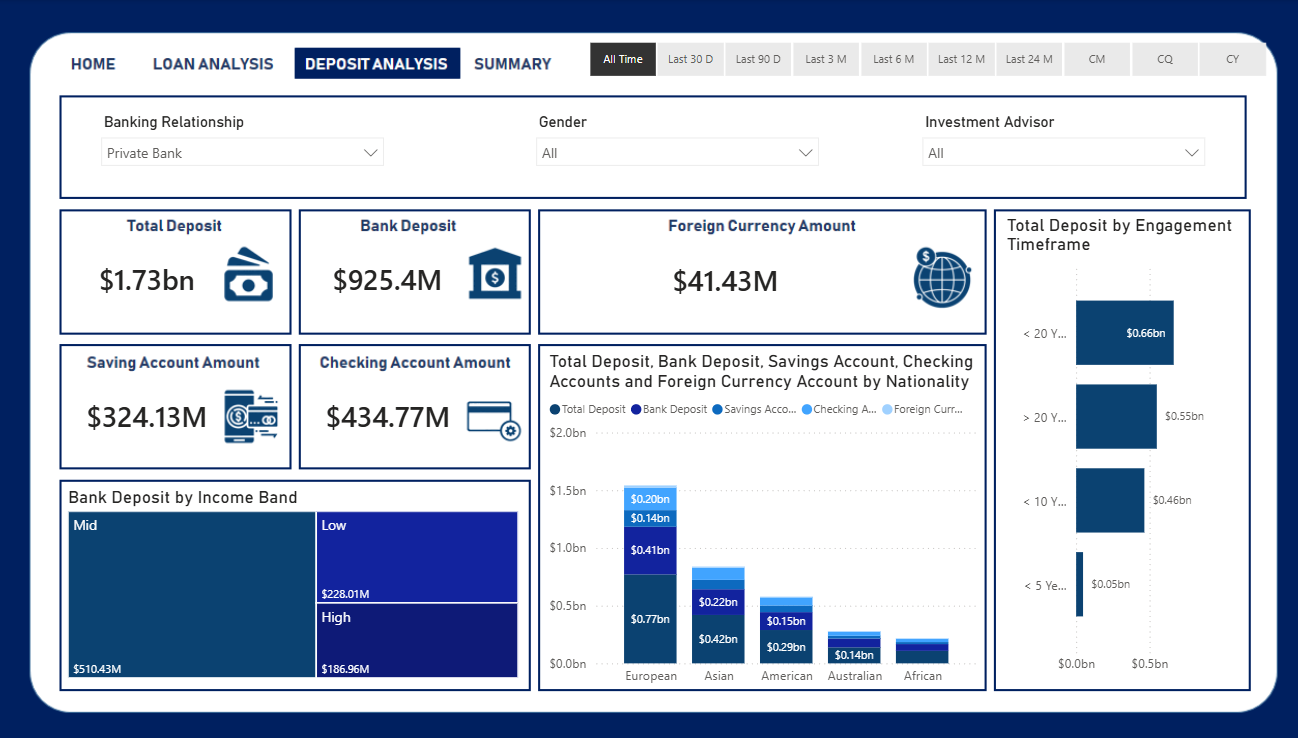

The page's visual inventory and layout, read from the dashboard file:
{"tool":"powerbi","page":{"name":"Deposit Analysis","canvas":[1280,720],"ordinal":2},"visuals":[{"type":"card","fields":{"Values":["DAX Measures.Total Deposit"]},"box":[72.7,226.3,161.8,90.3],"z":0},{"type":"card","fields":{"Values":["DAX Measures.Bank Deposit"]},"box":[299,226.3,172.4,89.1],"z":1000},{"type":"card","fields":{"Values":["DAX Measures.Savings Account"]},"box":[72.7,360,161.8,89.1],"z":2000},{"type":"card","fields":{"Values":["DAX Measures.Checking Accounts"]},"box":[300.2,360,171.2,89.1],"z":3000},{"type":"slicer","fields":{"Values":["Banking Relationship.Banking Relationship"]},"box":[98.5,105.2,292.9,75.7],"z":4000},{"type":"slicer","fields":{"Values":["Gender.Gender"]},"box":[518.9,105.2,292.9,75.7],"z":5000},{"type":"slicer","fields":{"Values":["Investment Advisor.Investment Advisor"]},"box":[891.3,105.2,292.9,75.7],"z":6000},{"type":"card","fields":{"Values":["DAX Measures.Foreign Currency Account"]},"box":[537.1,227.5,349.4,89.1],"z":7000},{"type":"treemap","fields":{"Group":["Clients - Banking.Income Band"],"Values":["DAX Measures.Bank Deposit"]},"box":[72.7,470.2,444.4,190],"z":8000},{"type":"columnChart","fields":{"Category":["Clients - Banking.Nationality"],"Y":["DAX Measures.Total Deposit","DAX Measures.Bank Deposit","DAX Measures.Savings Account","DAX Measures.Checking Accounts","DAX Measures.Foreign Currency Account"]},"box":[537.1,338.9,423.3,331.9],"z":9000},{"type":"clusteredBarChart","fields":{"Category":["Clients - Banking.Engagement Timeframe"],"Y":["DAX Measures.Total Deposit"]},"box":[978,207.6,234.5,452.6],"z":10000},{"type":"slicer","fields":{"Values":["Period.Name"]},"box":[555.2,34.6,702.1,46.6],"z":11000},{"type":"actionButton","box":[72.8,44.2,58.5,31],"z":12000},{"type":"actionButton","box":[160,44.2,119.4,31],"z":13000},{"type":"actionButton","box":[471.6,44.2,83.6,31],"z":14000}]}

Visuals, with their boxes in screenshot pixels (x1, y1, x2, y2), scaled from the page's 1280x720 canvas onto the 1298x738 screenshot:
card - DAX Measures.Total Deposit: <bbox>74, 232, 238, 325</bbox>
card - DAX Measures.Bank Deposit: <bbox>303, 232, 478, 323</bbox>
card - DAX Measures.Savings Account: <bbox>74, 369, 238, 460</bbox>
card - DAX Measures.Checking Accounts: <bbox>304, 369, 478, 460</bbox>
slicer - Banking Relationship.Banking Relationship: <bbox>100, 108, 397, 185</bbox>
slicer - Gender.Gender: <bbox>526, 108, 823, 185</bbox>
slicer - Investment Advisor.Investment Advisor: <bbox>904, 108, 1201, 185</bbox>
card - DAX Measures.Foreign Currency Account: <bbox>545, 233, 899, 325</bbox>
treemap - Clients - Banking.Income Band x DAX Measures.Bank Deposit: <bbox>74, 482, 524, 677</bbox>
columnChart - Clients - Banking.Nationality x DAX Measures.Total Deposit: <bbox>545, 347, 974, 688</bbox>
clusteredBarChart - Clients - Banking.Engagement Timeframe x DAX Measures.Total Deposit: <bbox>992, 213, 1230, 677</bbox>
slicer - Period.Name: <bbox>563, 35, 1275, 83</bbox>
actionButton: <bbox>74, 45, 133, 77</bbox>
actionButton: <bbox>162, 45, 283, 77</bbox>
actionButton: <bbox>478, 45, 563, 77</bbox>
